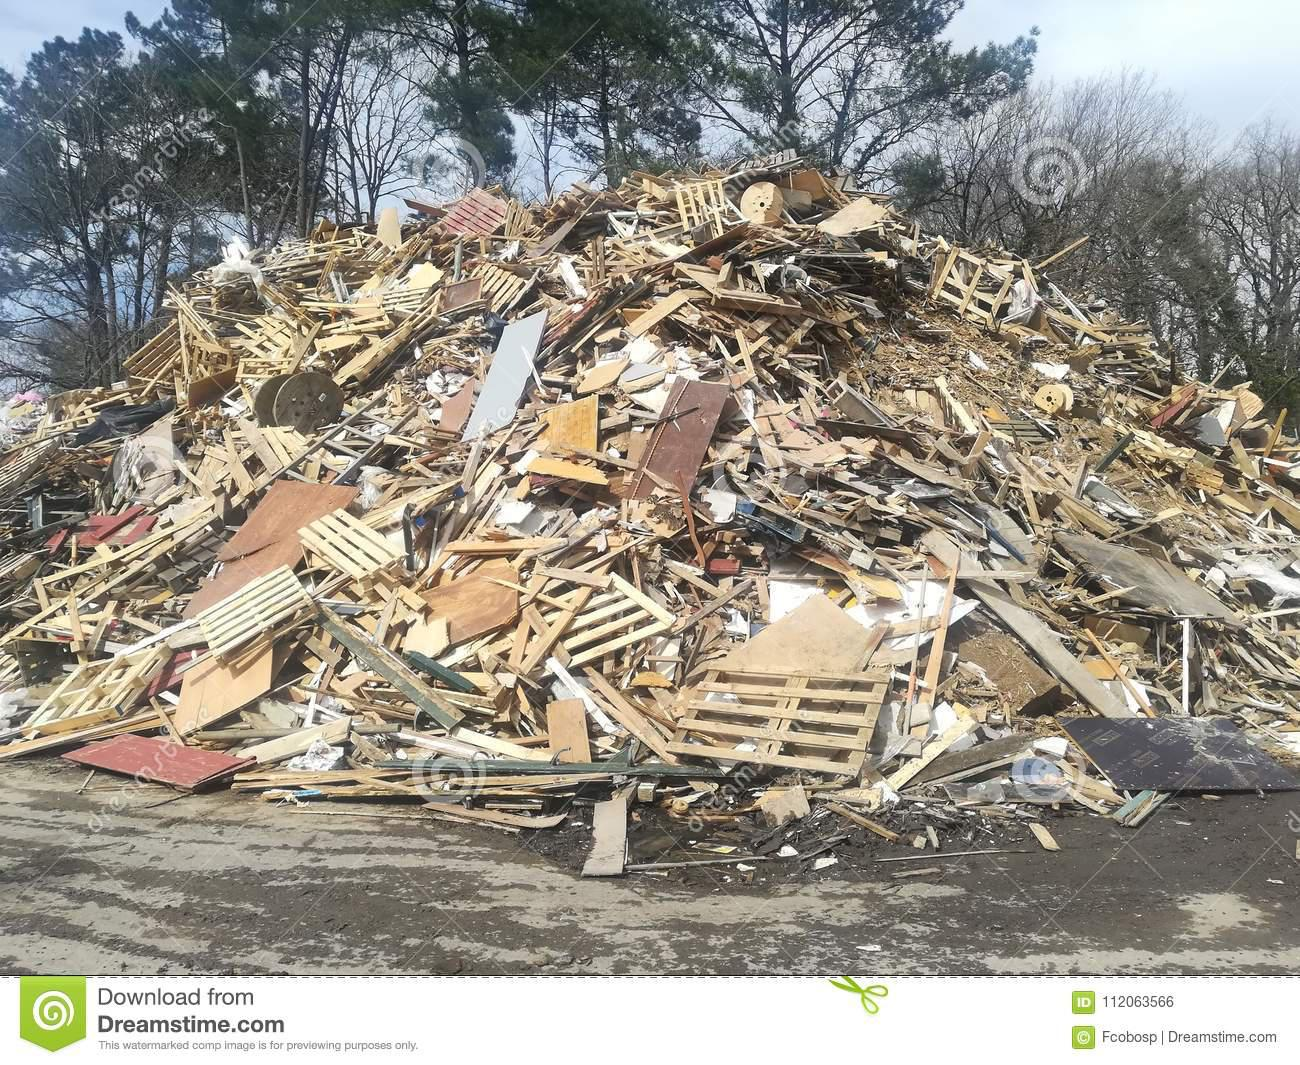wood: (667, 658, 908, 798), (526, 572, 676, 679), (185, 566, 322, 670), (292, 490, 416, 601), (631, 370, 726, 510), (408, 564, 537, 666), (66, 732, 257, 799), (29, 648, 172, 731), (117, 313, 224, 408), (669, 258, 807, 328), (525, 401, 617, 494), (929, 240, 1020, 326), (432, 184, 537, 251), (671, 179, 747, 244)
